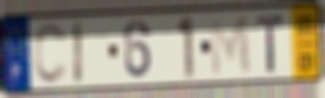1: (175, 14, 197, 82)
6: (122, 19, 154, 80)
C: (33, 21, 70, 87)
I: (72, 18, 85, 87)
M: (208, 13, 253, 79)
T: (255, 13, 286, 75)
